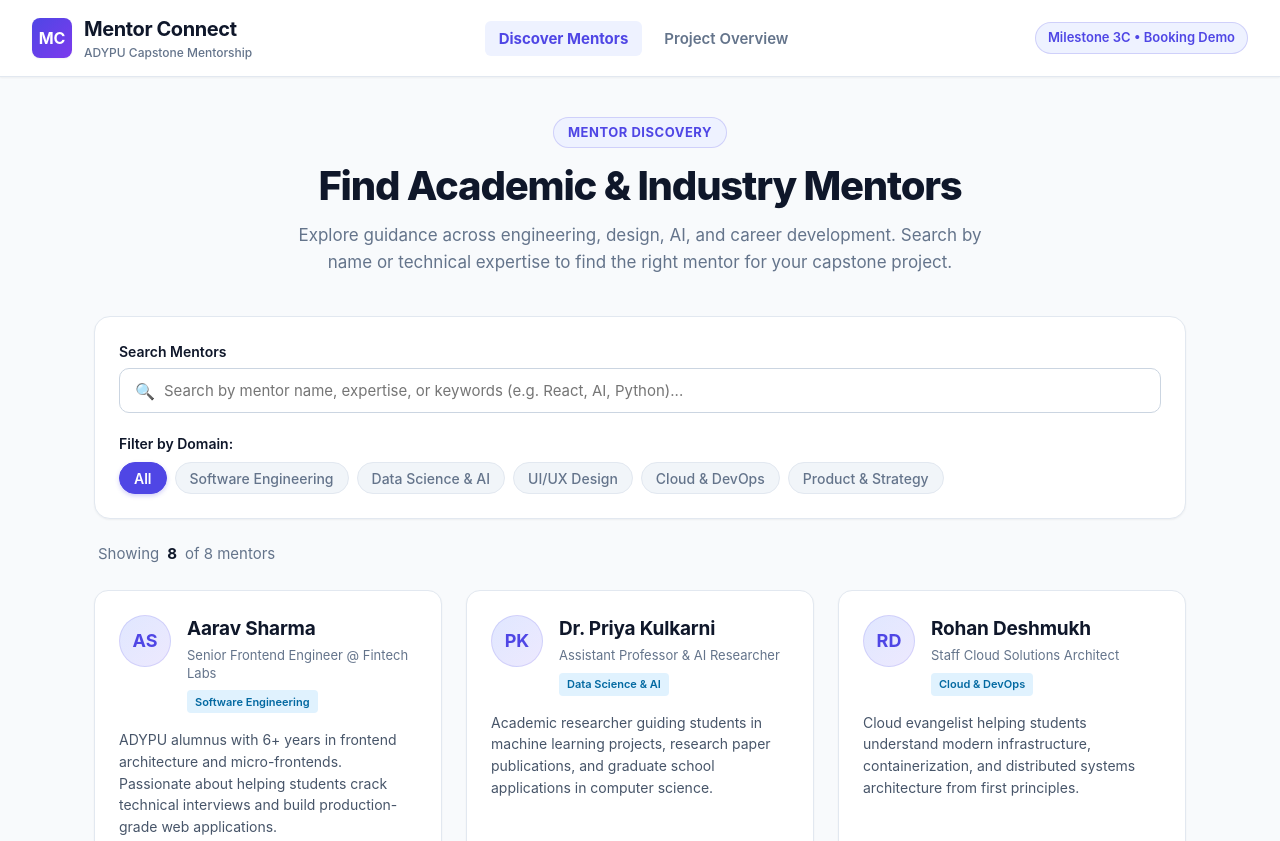
Profile Navigation › preserves search and category filters when returning from profile
The image size is (1280, 841).
Apply category filter and search term
Click the button "Data Science & AI". click: (431, 478)
box: x1=357 y1=462 x2=505 y2=494
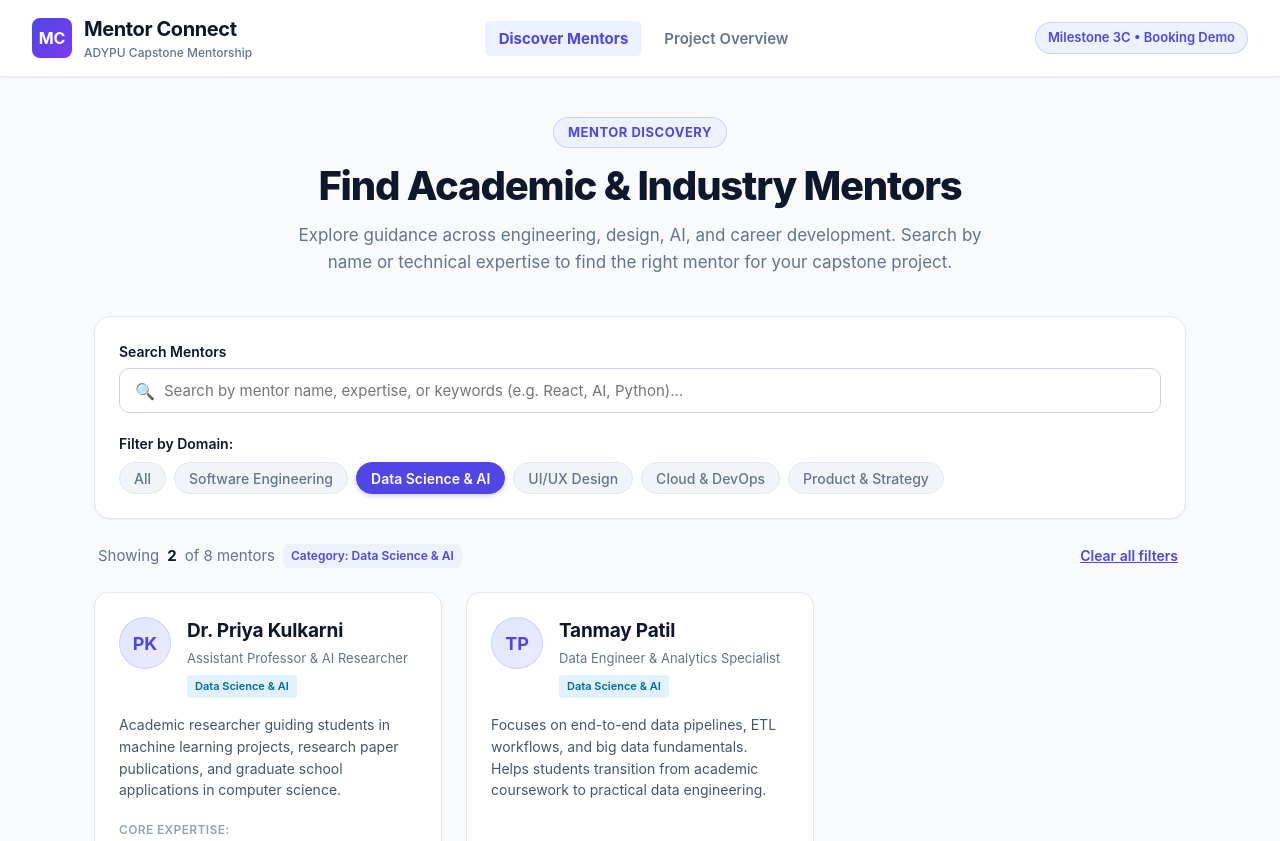
Replace the text in the search field labelled "Search Mentors" with "Priya". click: (640, 391)
box: x1=119 y1=368 x2=1161 y2=414
(page scrolled)
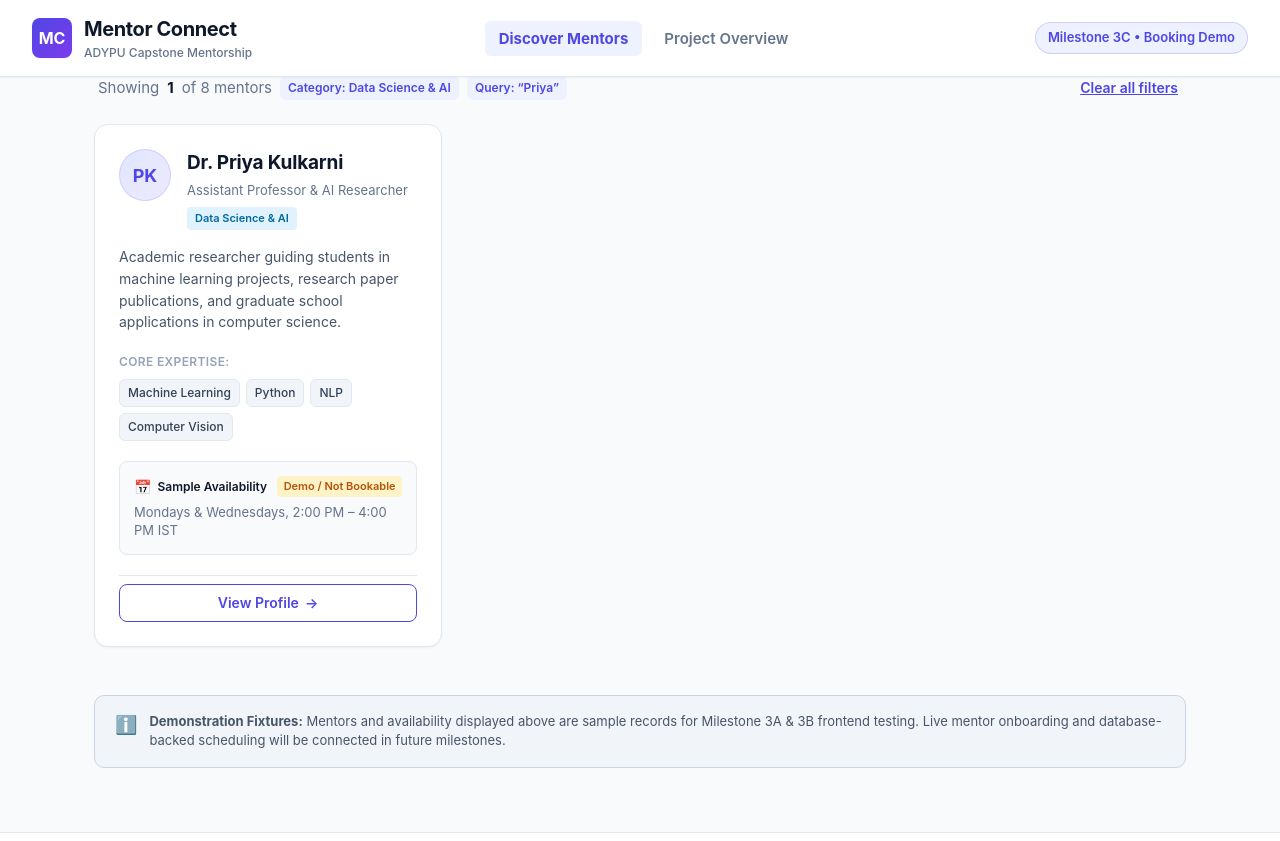
Now the element with class "results-count" shows "Showing 1 of 8 mentors", box x1=98 y1=76 x2=567 y2=100
Open profile
Click the button with aria-label "View detailed profile of Dr. Priya Kulkarni". click: (268, 603)
box: x1=119 y1=584 x2=417 y2=622
(page scrolled)
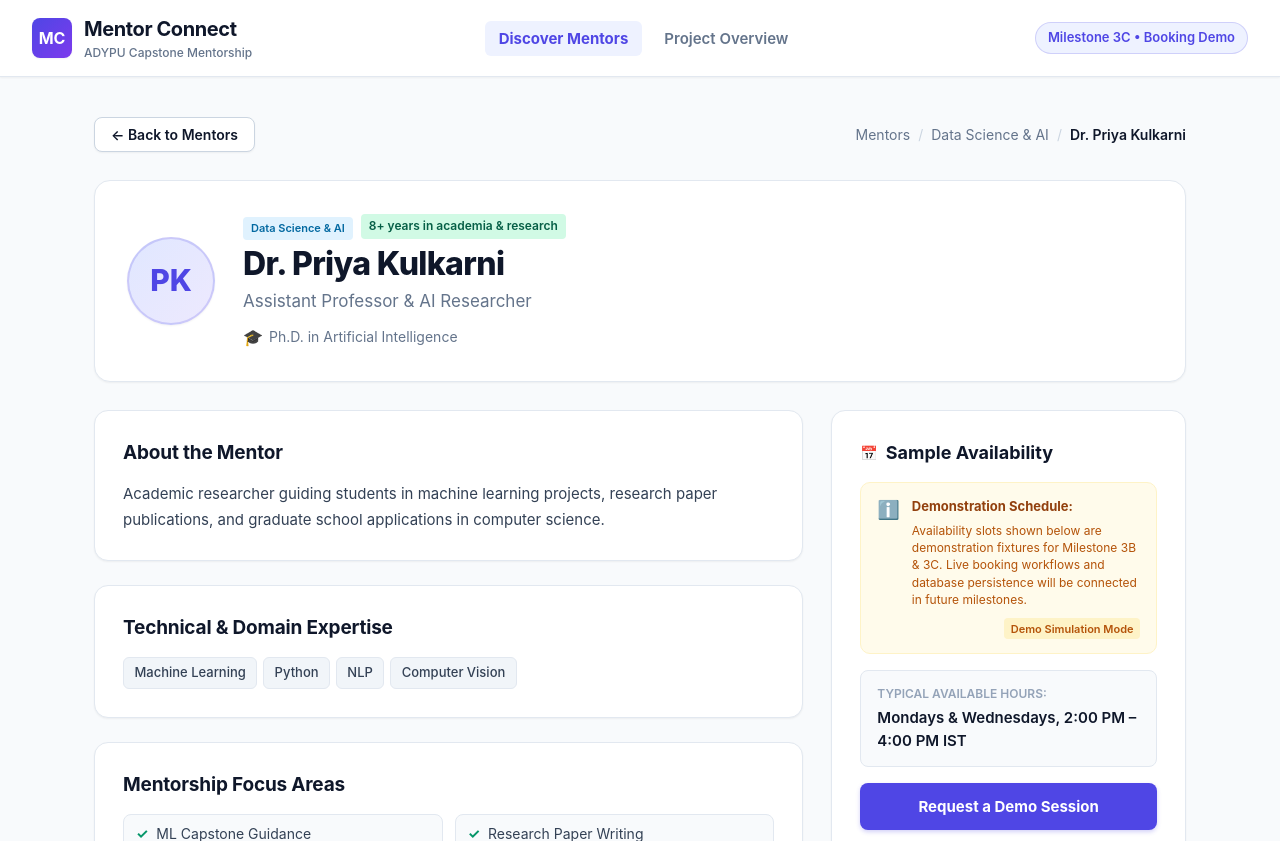
Return to directory
Click the button with aria-label "Return to mentor discovery page". click: (174, 134)
box: x1=94 y1=117 x2=255 y2=152
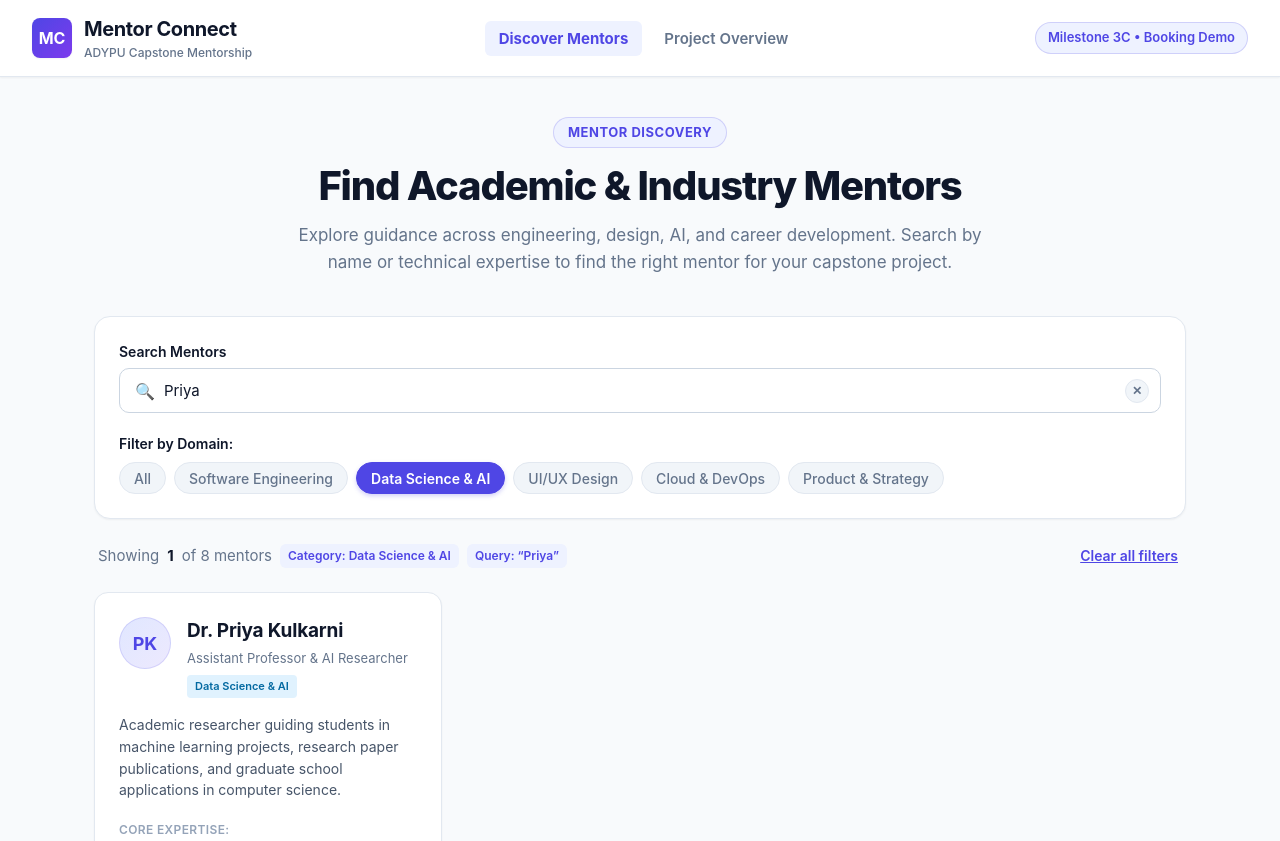
Expected: the heading "Dr. Priya Kulkarni" is shown, x1=187 y1=619 x2=343 y2=642
Now the search field labelled "Search Mentors" holds "Priya", box x1=119 y1=368 x2=1161 y2=414
Now the element with class "results-count" shows "Showing 1 of 8 mentors", box x1=98 y1=544 x2=567 y2=568
